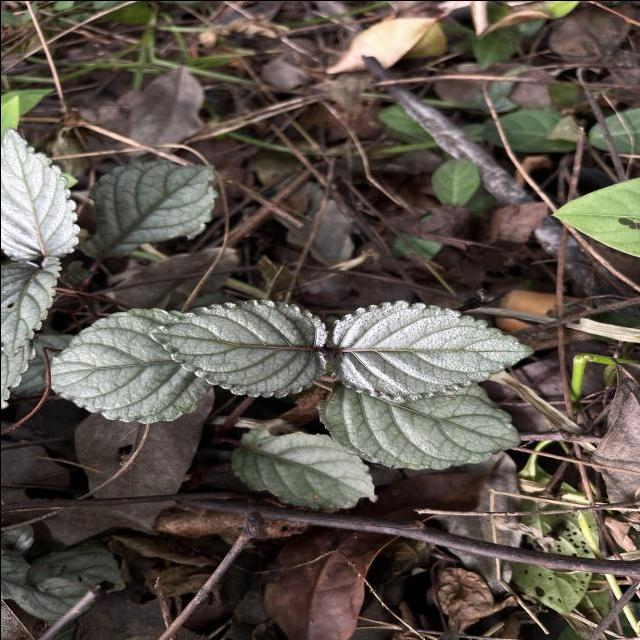Hemigraphis colorata: (326, 295, 537, 405), (38, 305, 210, 425), (144, 292, 331, 398), (314, 381, 523, 474), (225, 418, 382, 512), (0, 122, 83, 264)
